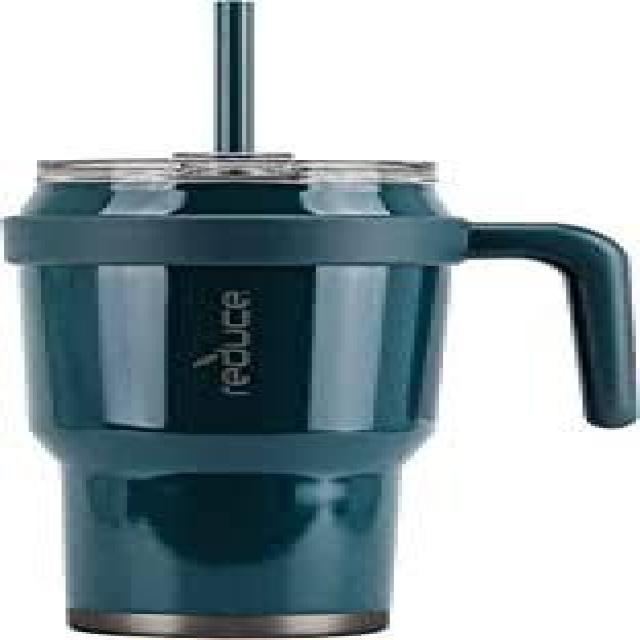bottle: (4, 2, 640, 634)
